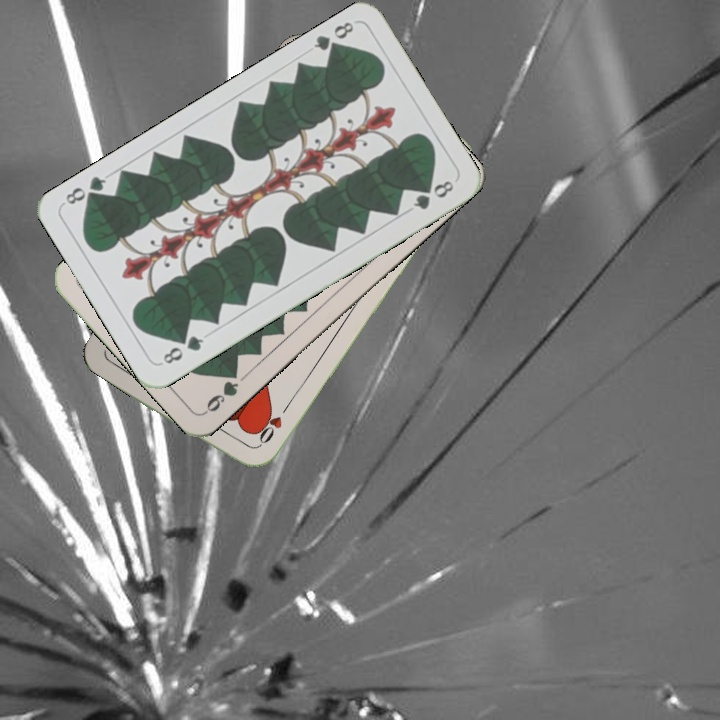G8: (309, 17, 357, 58), (157, 331, 207, 367)
G9: (201, 365, 242, 417)
HO: (253, 399, 293, 451)
